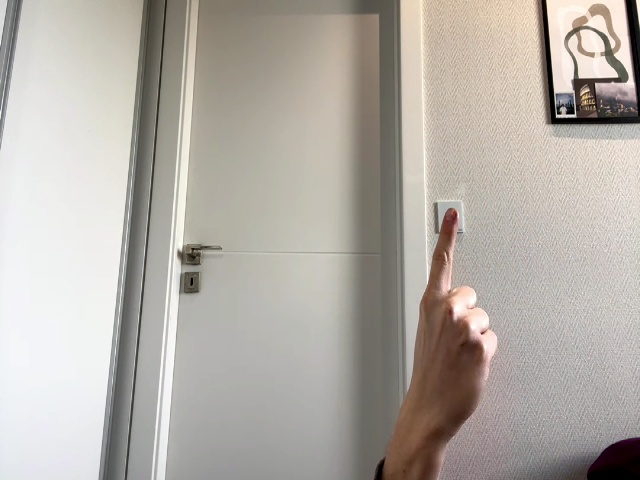D: (411, 208, 498, 432)
